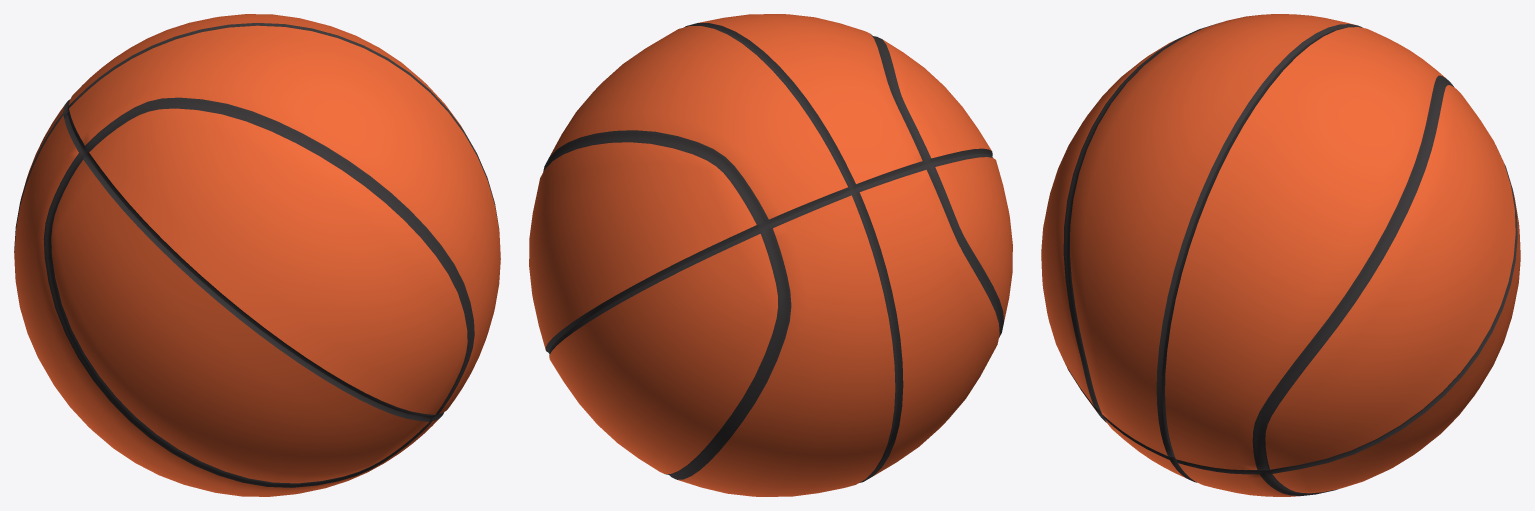
The model's file is ball.fbx.
3 views of the same model, side by side, from view 1: azimuth 30°, elevation 25°; view 2: azimuth 150°, elevation 25°; view 3: azimuth 270°, elevation 25° (orthographic).
Visible parts, largest first — view 1: Basketball; view 2: Basketball; view 3: Basketball.
Boxes of the visible parts, x1=… form: Basketball: x1=14, y1=14, x2=500, y2=496; Basketball: x1=529, y1=14, x2=1012, y2=496; Basketball: x1=1041, y1=14, x2=1520, y2=496.
Size of the model in its own units: 50.57 by 50.61 by 50.44.
